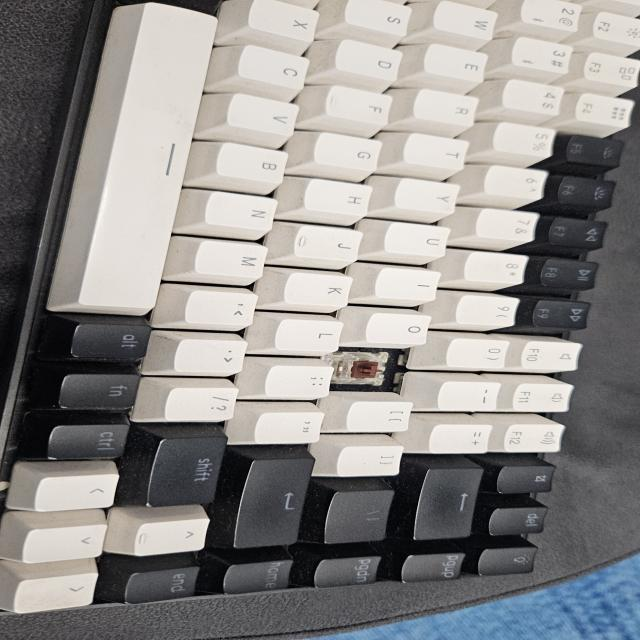C: (338, 353, 398, 387)
